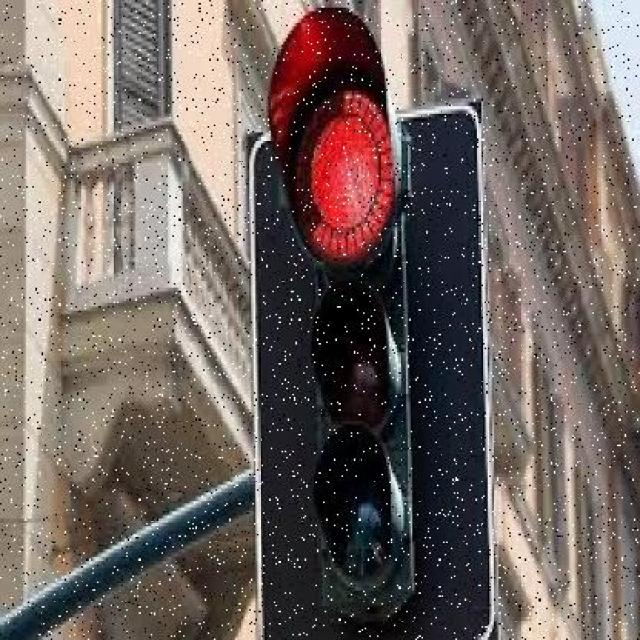red-light: (203, 44, 518, 640)
